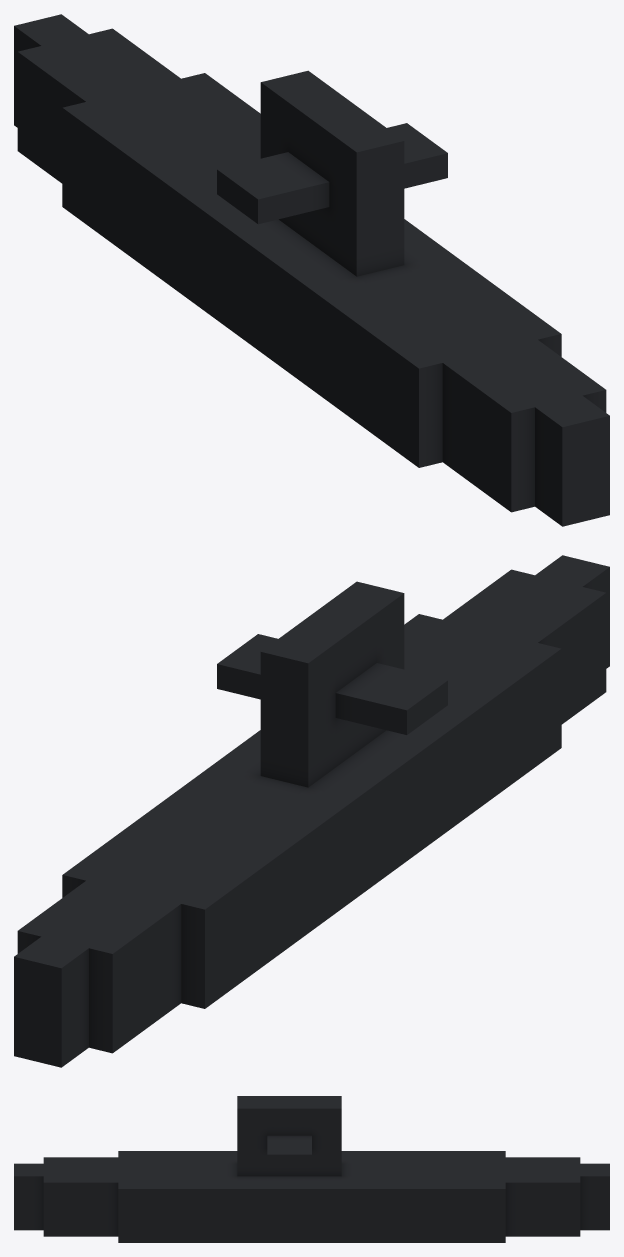
The picture shows the model from 3 angles, top to bottom: view 1: azimuth 30°, elevation 25°; view 2: azimuth 150°, elevation 25°; view 3: azimuth 270°, elevation 25°; orthographic projection. The views are drawn at different scales.
Visible parts, largest first — view 1: u_sub_body; view 2: u_sub_body; view 3: u_sub_body.
Boxes of the visible parts, left/top/right/bottom form: u_sub_body: left=14, top=14, right=609, bottom=526; u_sub_body: left=14, top=555, right=609, bottom=1067; u_sub_body: left=14, top=1096, right=609, bottom=1242.
Size of the model in its own units: 0.5 by 0.5625 by 2.5.
1 material, 1 textured.
